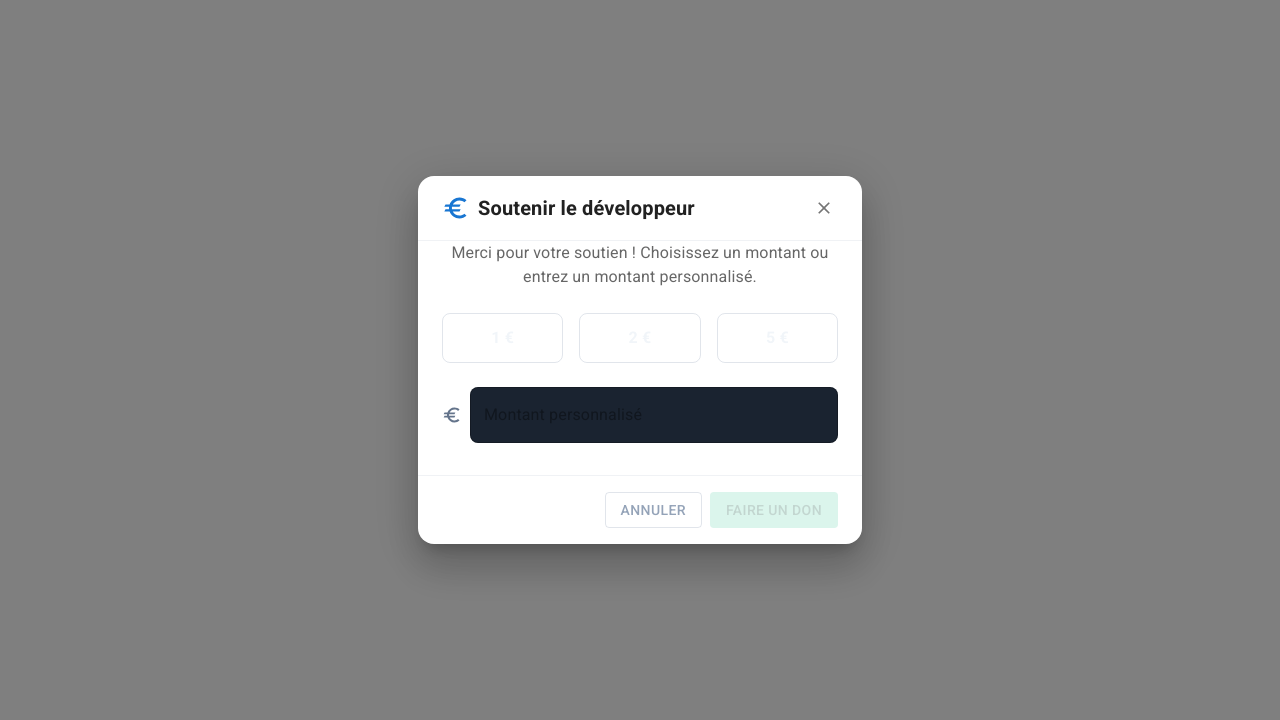
Test: DonationDialog › entering custom amount displays it
Type "10" into the field with placeholder "Montant personnalisé" at [654, 415], box x1=470 y1=387 x2=838 y2=443
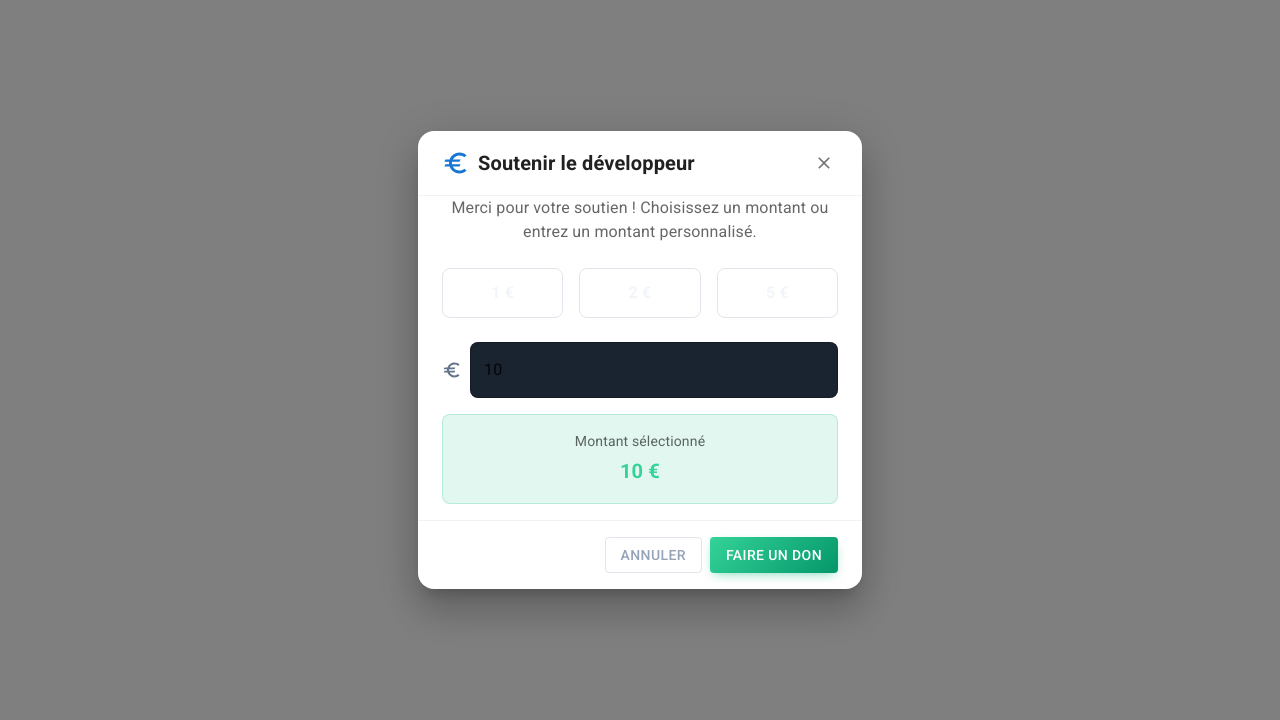
Now the text "Montant sélectionné" is shown, box x1=575 y1=433 x2=705 y2=449
Now the heading "10 €" is shown, box x1=620 y1=459 x2=660 y2=483
